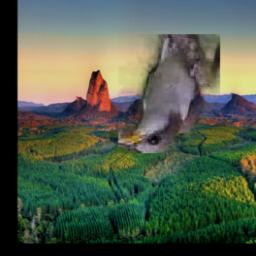Cuckoo: (119, 35, 221, 154)
